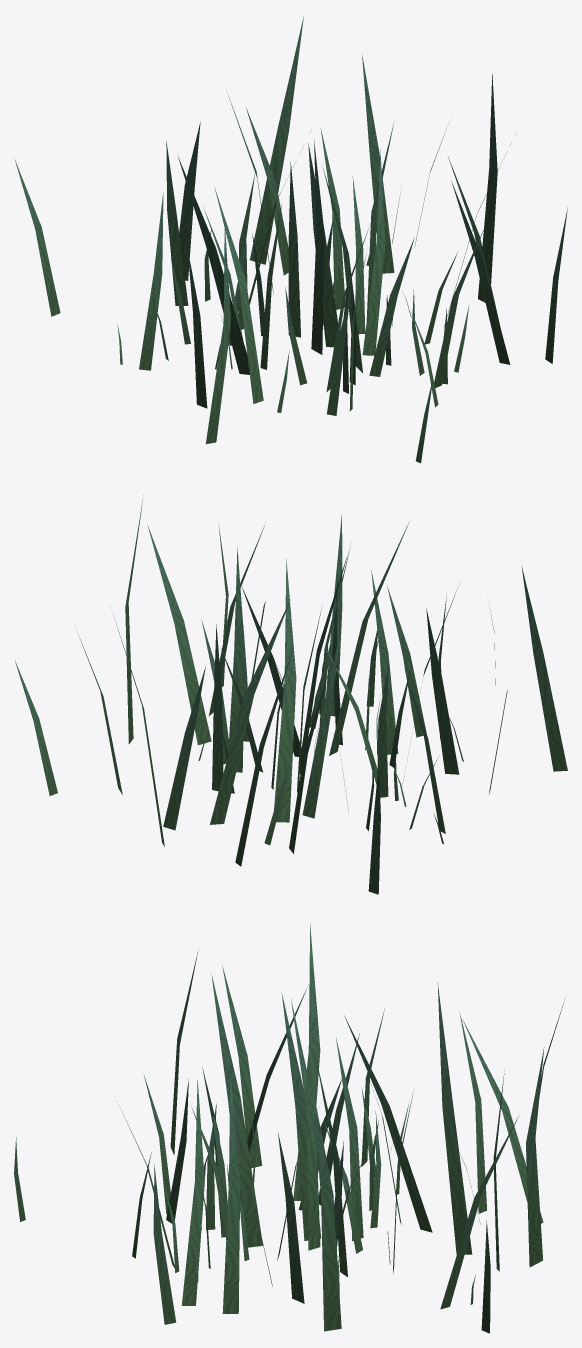
File: Grass_Dense.dae
3 views of the same model, one above another, from view 1: azimuth 30°, elevation 25°; view 2: azimuth 150°, elevation 25°; view 3: azimuth 270°, elevation 25° (orthographic). The views are drawn at different scales.
Visible parts, largest first — view 1: Grass_Dense; view 2: Grass_Dense; view 3: Grass_Dense.
Boxes of the visible parts, x1,y1,x2,y2 form: Grass_Dense: (14, 16, 567, 463); Grass_Dense: (14, 495, 567, 894); Grass_Dense: (14, 923, 565, 1333).
Bounding box in the file's own units: 402 × 232 × 460.
